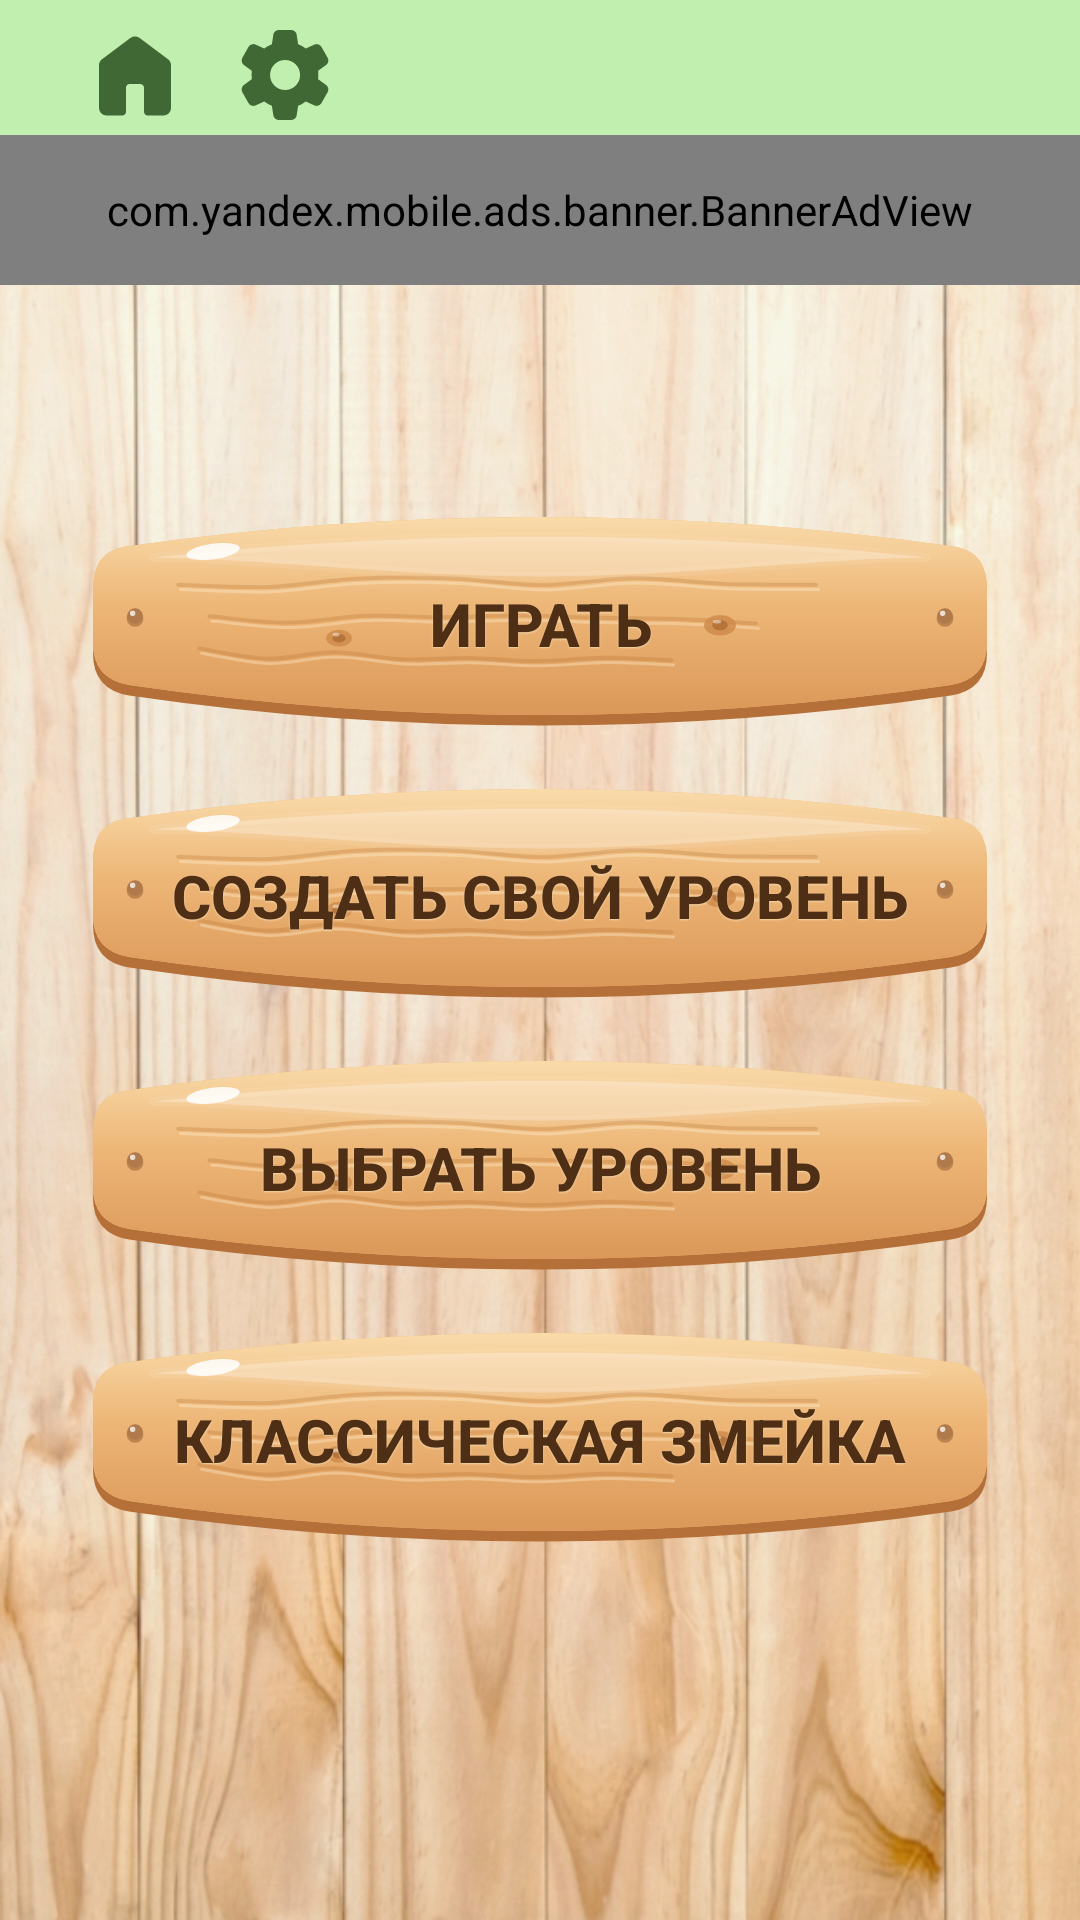

Where icons sit on this 1080*1920 app screen, as bbox=(x1, y1, x2, y2):
home: bbox=(99, 36, 171, 116)
settings: bbox=(241, 30, 329, 120)
